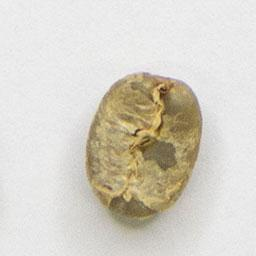premium: (81, 65, 208, 224)
